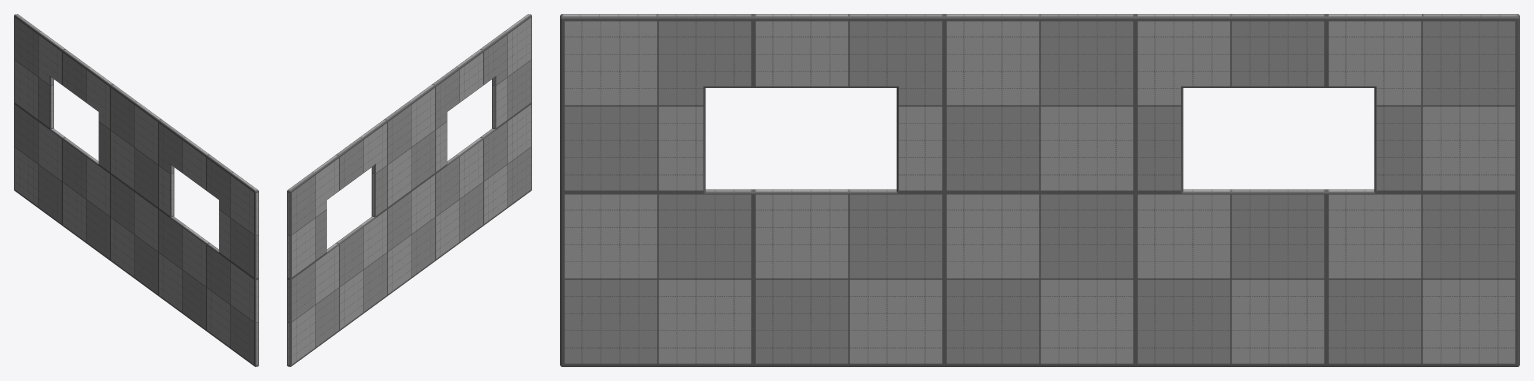
Rendered from Wall0x2x5Window.fbx.
The picture shows the model from 3 angles, left to right: view 1: azimuth 30°, elevation 25°; view 2: azimuth 150°, elevation 25°; view 3: azimuth 270°, elevation 25°; orthographic projection. The views are drawn at different scales.
Visible parts, largest first — view 1: Wall0x2x5Window; view 2: Wall0x2x5Window; view 3: Wall0x2x5Window.
Boxes of the visible parts, x1,y1,x2,y2 form: Wall0x2x5Window: (14, 14, 258, 366); Wall0x2x5Window: (287, 14, 531, 366); Wall0x2x5Window: (560, 14, 1519, 366).
Bounding box in the file's own units: 5 × 202 × 502.
